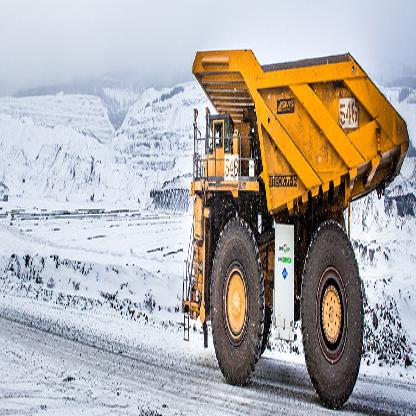dump_truck: (41, 4, 356, 416)
